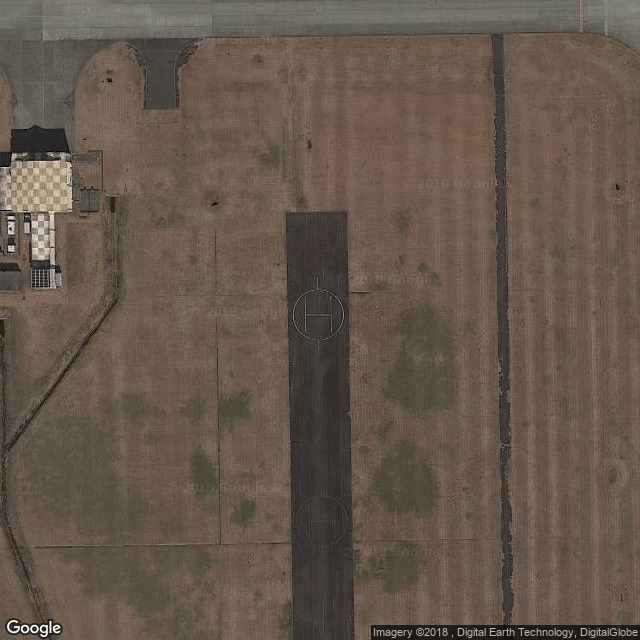heliport: (302, 292, 334, 335)
